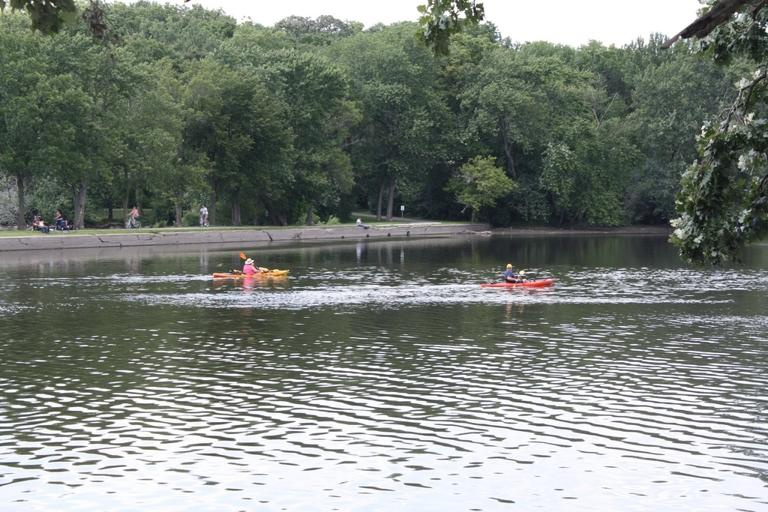non-vehicle: (125, 214, 141, 228), (200, 215, 208, 227)
